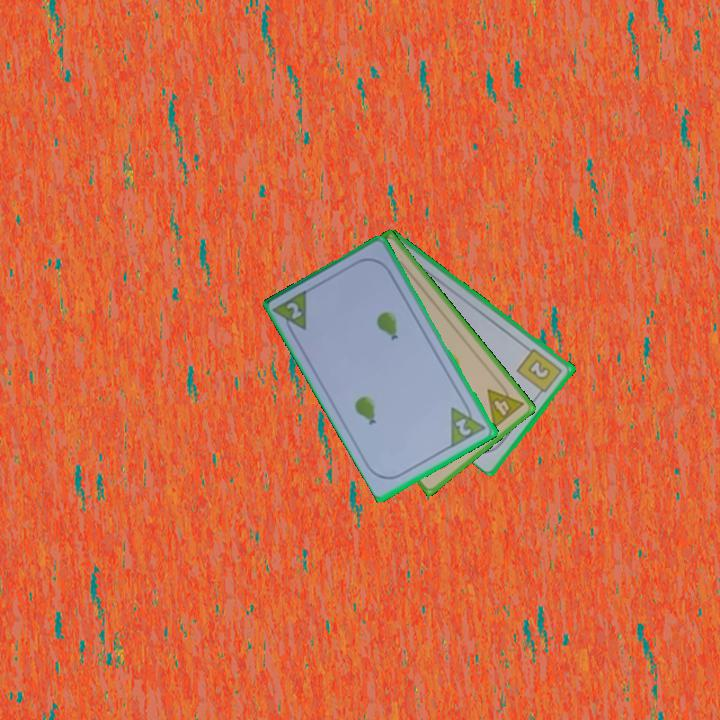2b: (514, 345, 565, 399)
2p: (447, 397, 490, 450), (271, 286, 312, 340)
4p: (484, 377, 527, 431)
